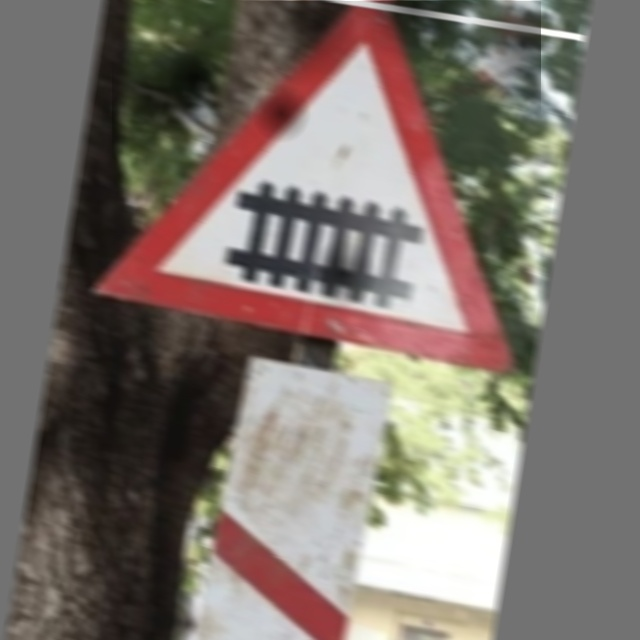Guarded_Level_Crossing: (112, 1, 541, 360)
